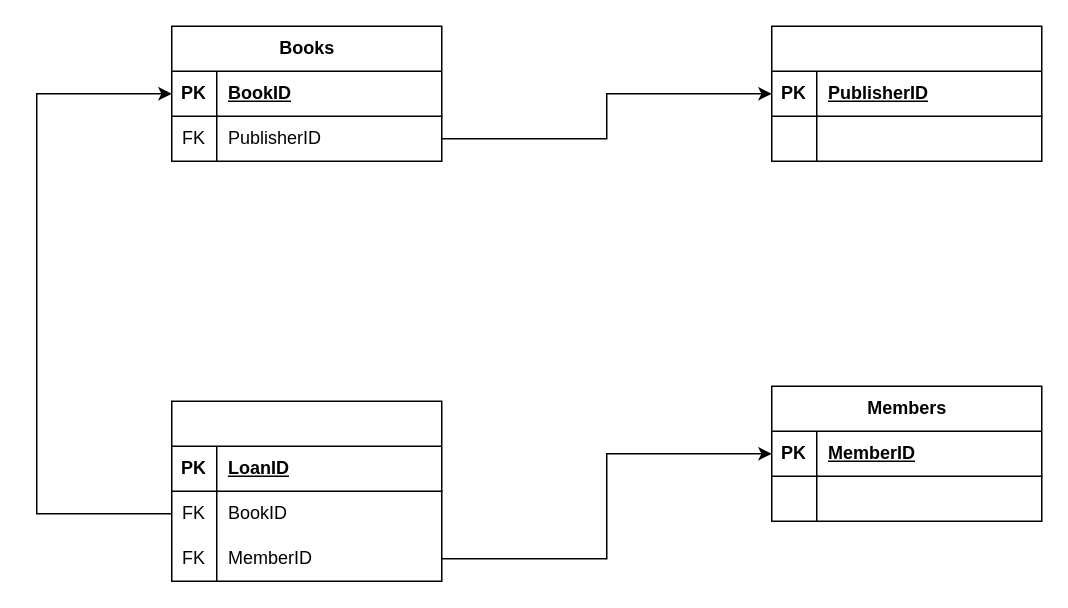
Image size: 1068x608. Some labels were removed from this diagram. Here are the shapes that lost their labels. From the top down, the box of each, then its label:
(770, 25, 1042, 161): Publishers
(170, 400, 442, 581): Loans
